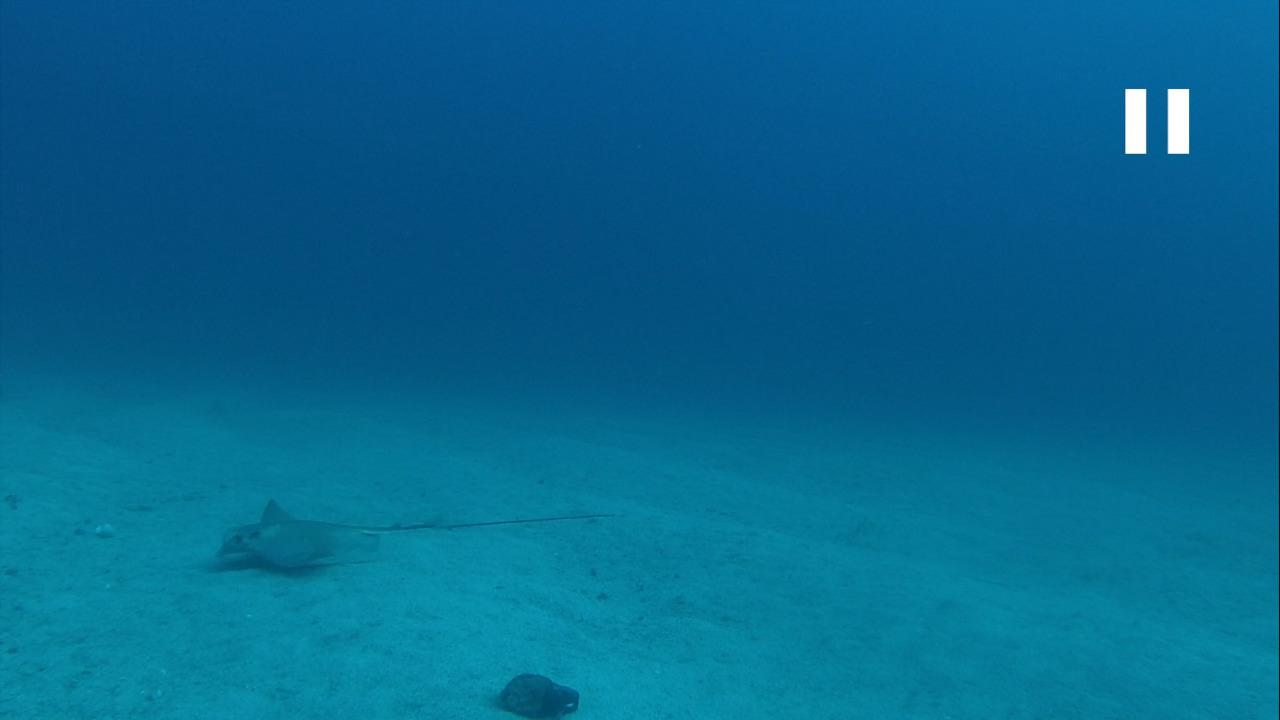myliobatis: (197, 494, 611, 575)
